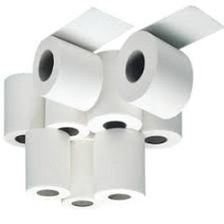tissue: (108, 0, 224, 123), (27, 3, 140, 115), (80, 45, 146, 138), (87, 123, 151, 208), (20, 124, 75, 204), (0, 67, 52, 151), (56, 136, 104, 212), (37, 94, 91, 143), (133, 108, 188, 153)
